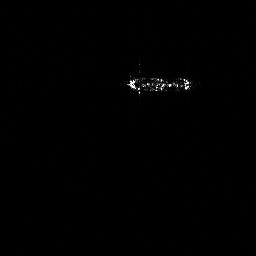ship: (122, 62, 195, 98)
